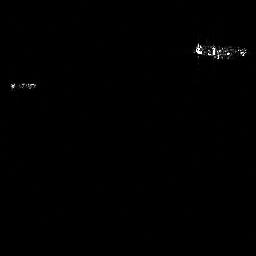ship: (192, 40, 249, 62), (10, 80, 39, 90)
